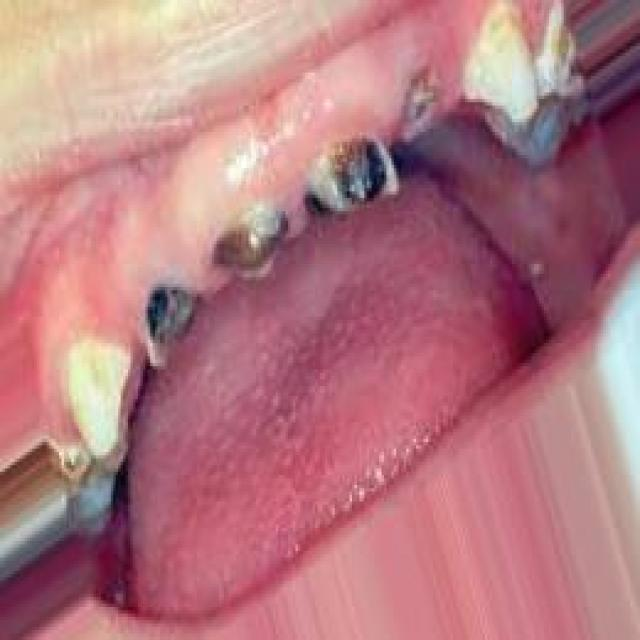caries: (308, 132, 402, 217), (211, 203, 294, 288), (135, 278, 206, 375), (402, 72, 456, 136)
